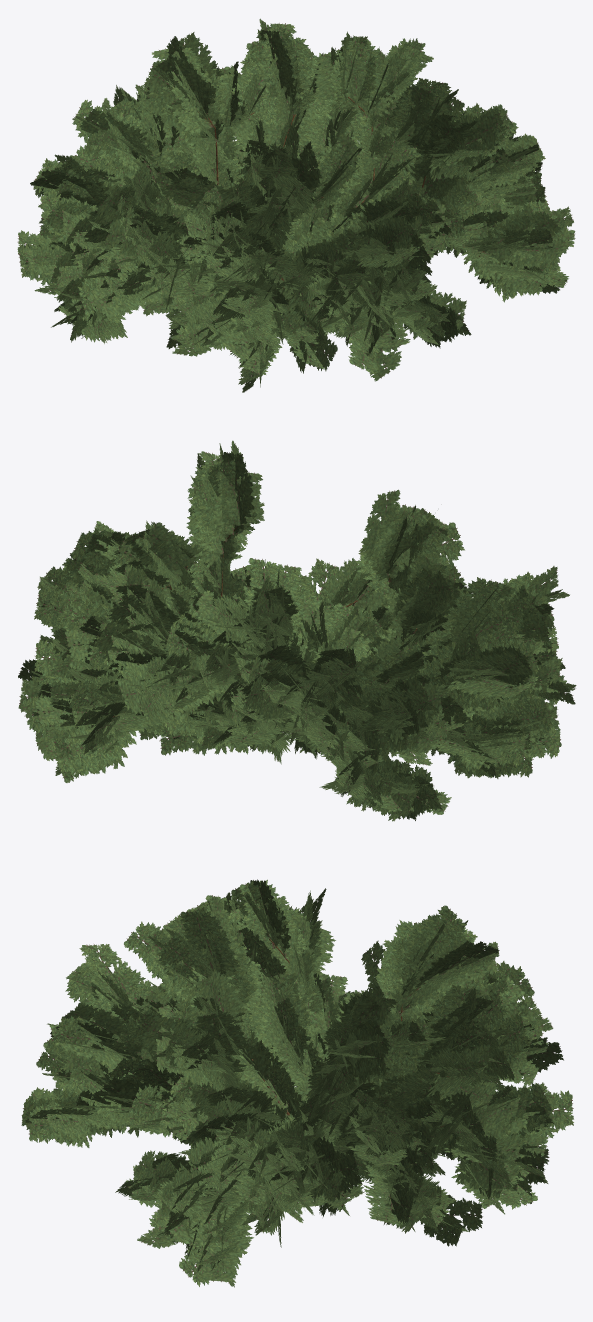
Rendered from juniper_low_v02.glb.
3 renders of one model, top to bottom at view 1: azimuth 30°, elevation 25°; view 2: azimuth 150°, elevation 25°; view 3: azimuth 270°, elevation 25°, orthographic. The views are drawn at different scales.
Visible parts, largest first — view 1: juniper_low_v02; view 2: juniper_low_v02; view 3: juniper_low_v02.
Part boxes in pixels (bbox=[...]): juniper_low_v02: bbox=[17, 18, 575, 392]; juniper_low_v02: bbox=[18, 440, 576, 821]; juniper_low_v02: bbox=[21, 879, 573, 1287].
Bounding box in the file's own units: 1.96 × 1 × 1.82.
Materials: 2 (2 with a texture image).
